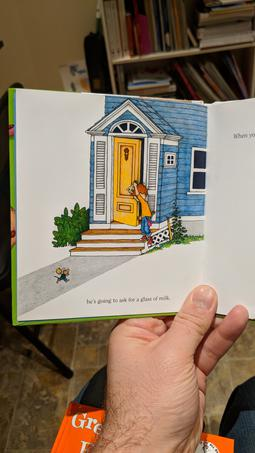text block: (78, 291, 177, 306)
